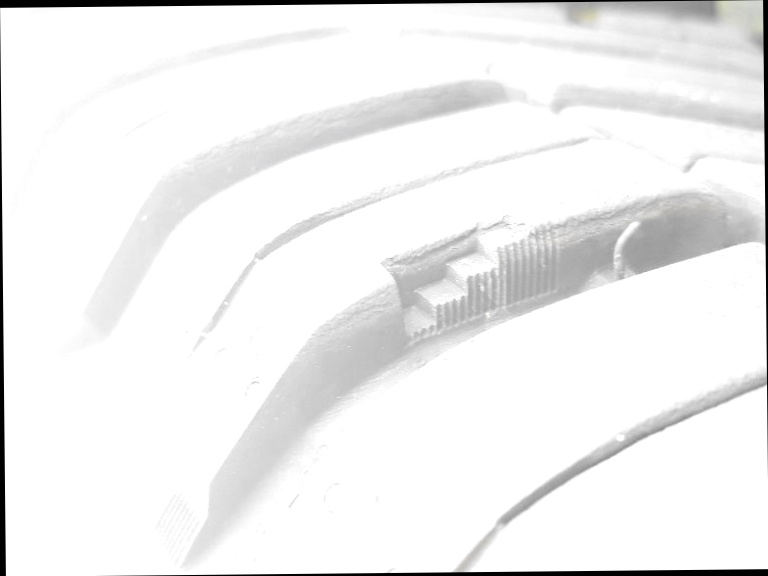temoin:90: (371, 199, 569, 361)
